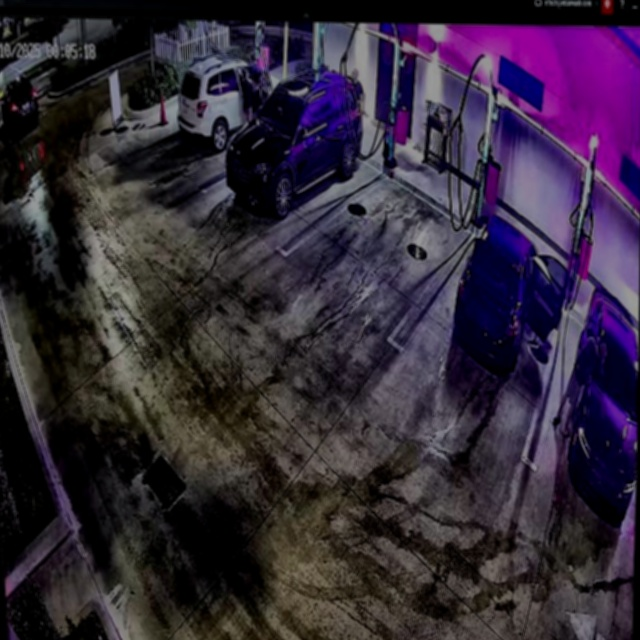Car: (221, 65, 365, 216), (452, 211, 568, 375)
